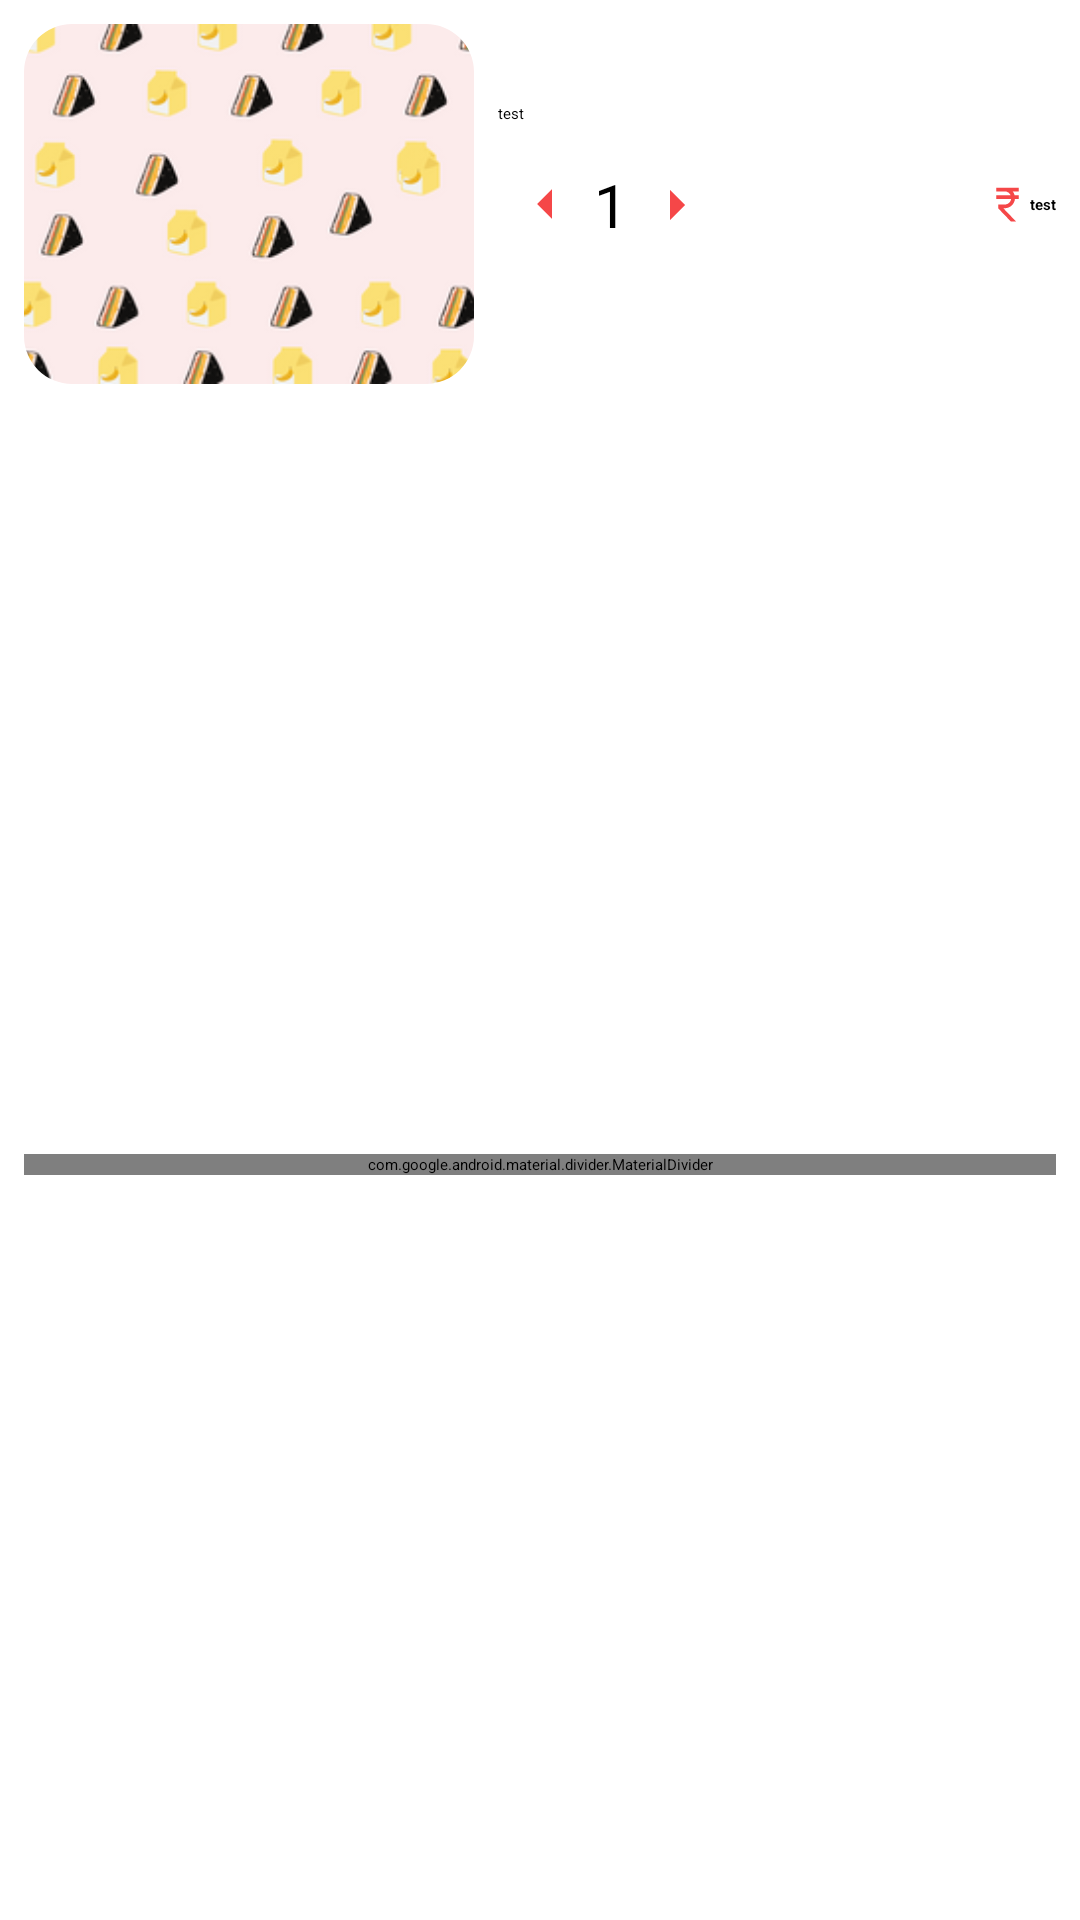

Icon bounding boxes for this 1080x1920 phone screenshot, format box=[x1, y1, x2, y2]:
Button for decreasing quantity: box=[537, 189, 552, 219]
Button for increasing quantity: box=[670, 190, 685, 220]
rupee: box=[996, 187, 1019, 222]
